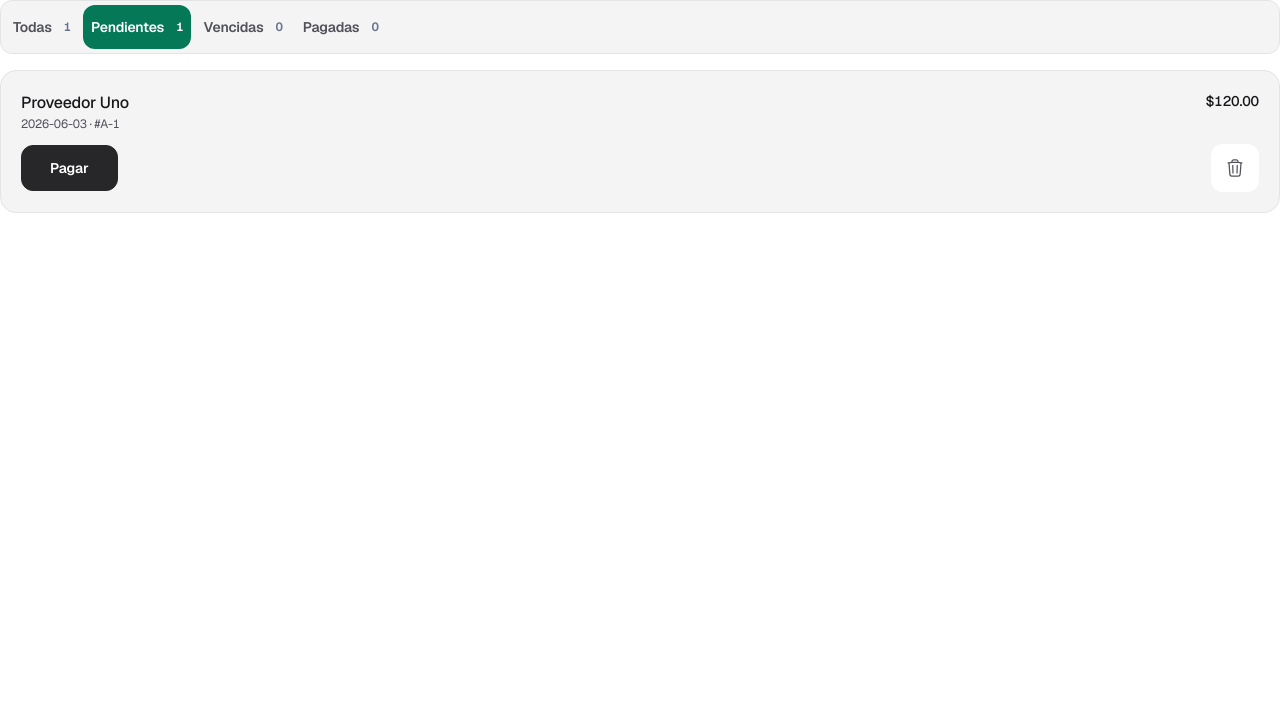
it: InvoiceList › removes a row after a successful delete
The image size is (1280, 720).
Click the button named "Eliminar factura": (1235, 168) [1211,144,1259,192]
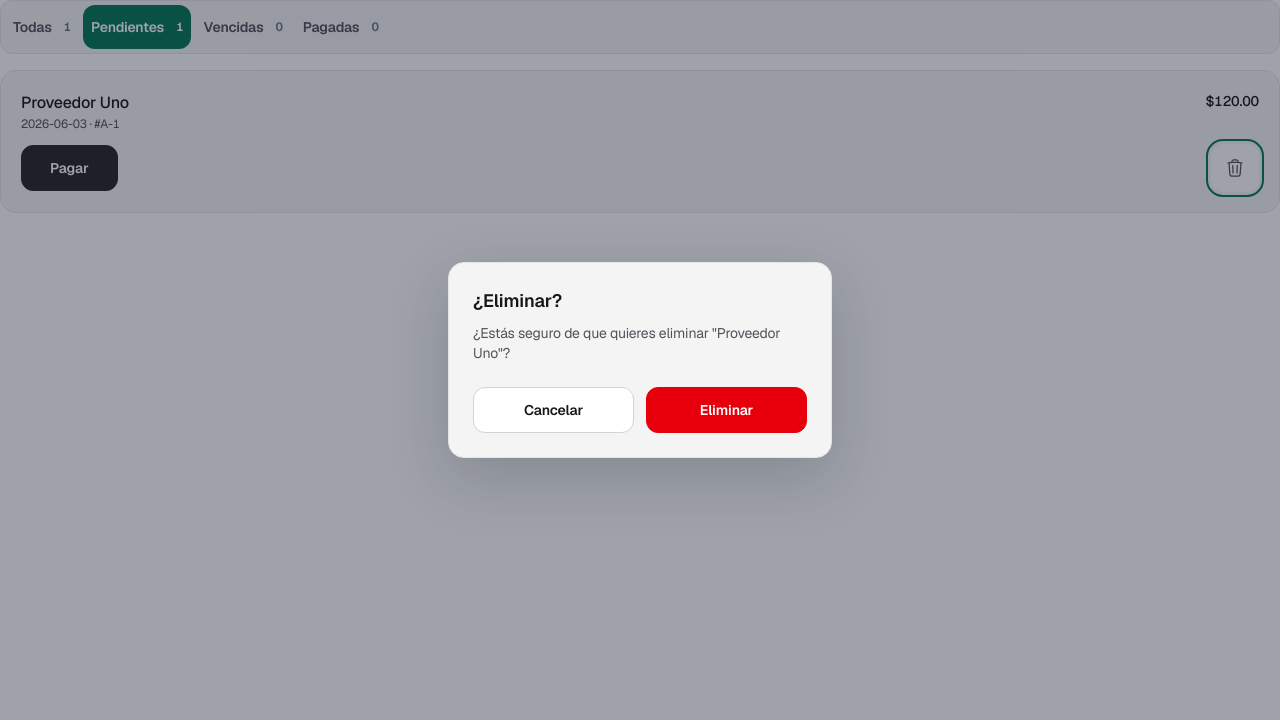
Click the button "Eliminar": (726, 410) [646,387,807,433]
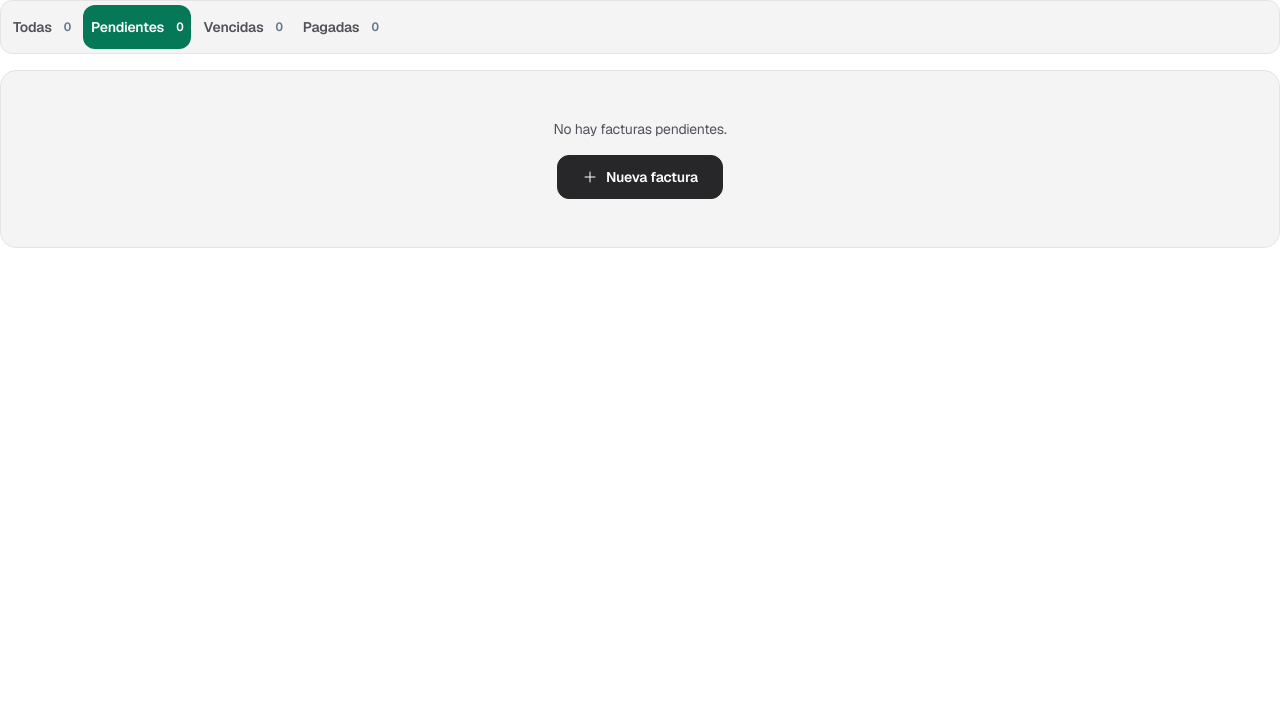
Expected: the text "No hay facturas pendientes." is shown, [553,119,726,139]
